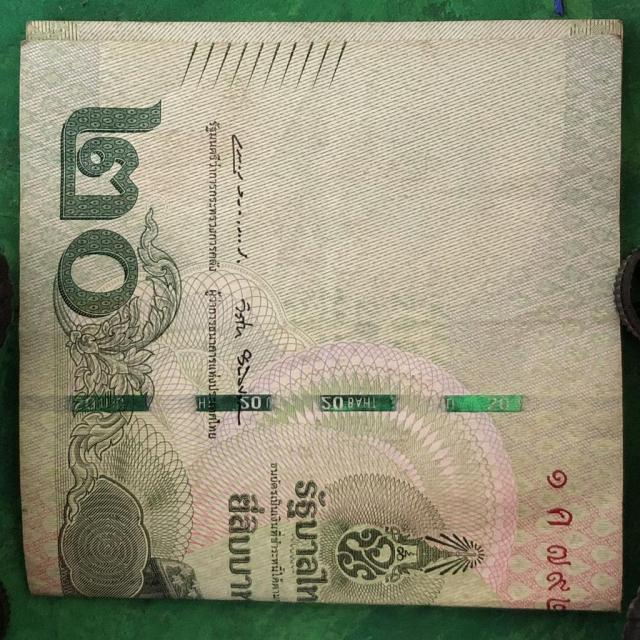THAI20: (19, 20, 622, 611)
